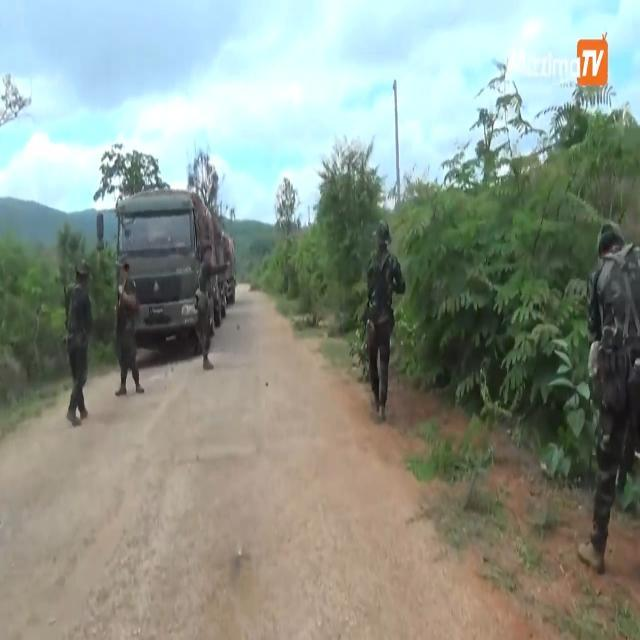MIL_Pax: (578, 222, 640, 573), (368, 222, 405, 419), (195, 244, 227, 371), (68, 262, 92, 427), (116, 262, 144, 394)
